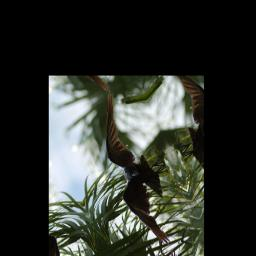Crow: (82, 82, 192, 256)
